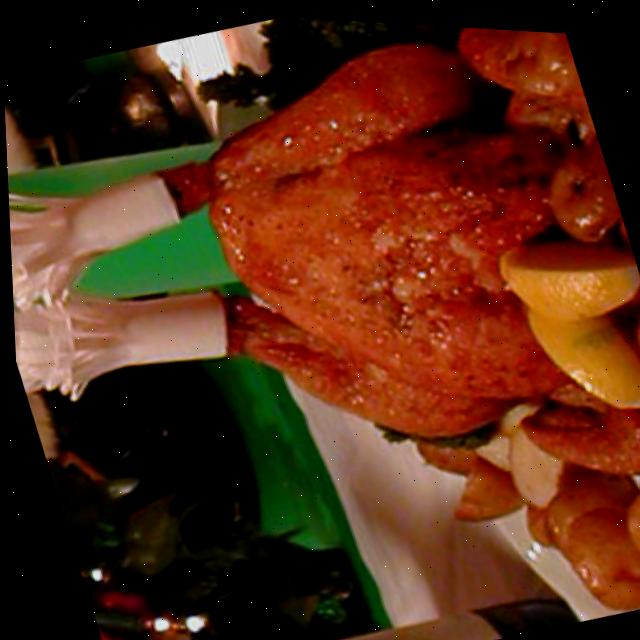鸡肉料理 含炸鸡: (0, 0, 615, 547)
